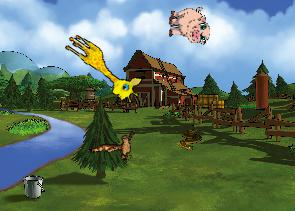eagle: (88, 118, 147, 176)
giraffe: (56, 30, 147, 107)
pig: (167, 6, 210, 45)
